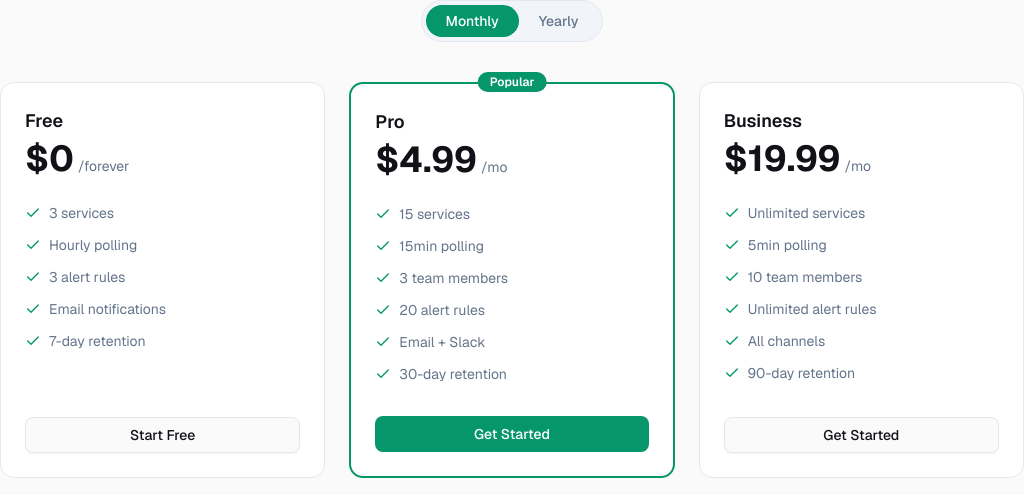
Test: PricingSection › switches to yearly prices when Yearly toggle is clicked
Click the button "Yearly". click: (559, 21)
box: [519,5,598,37]
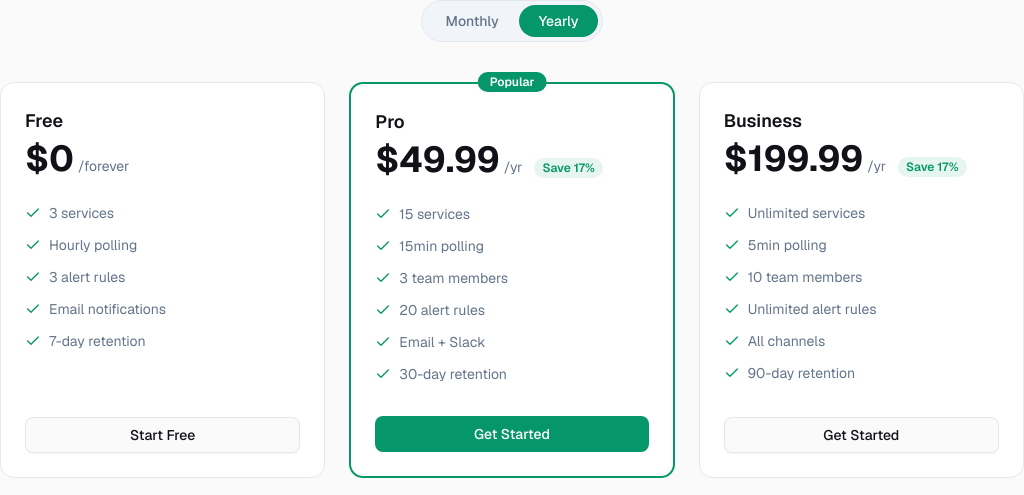
expect the text "$49.99" is shown: met, box [375,140,500,180]
expect the text "$199.99" is shown: met, box [724,139,863,179]
